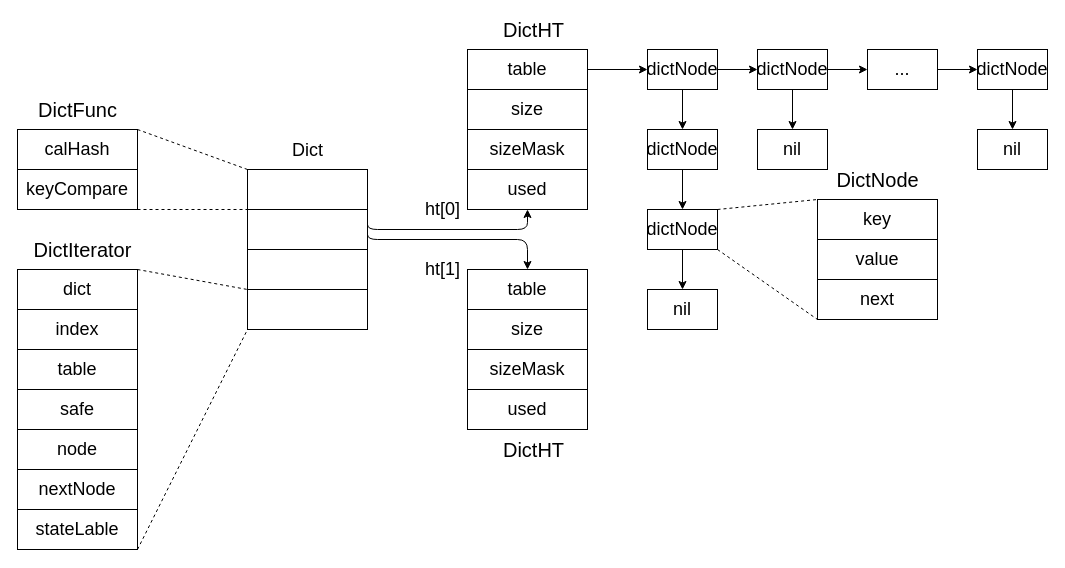
This 1065x568 diagram has some shape labels left out. Each missing label, with the centre of its shape:
funcs: point (307, 189)
ht: point (307, 229)
iterators: point (307, 309)
rehashIndex: point (307, 269)
